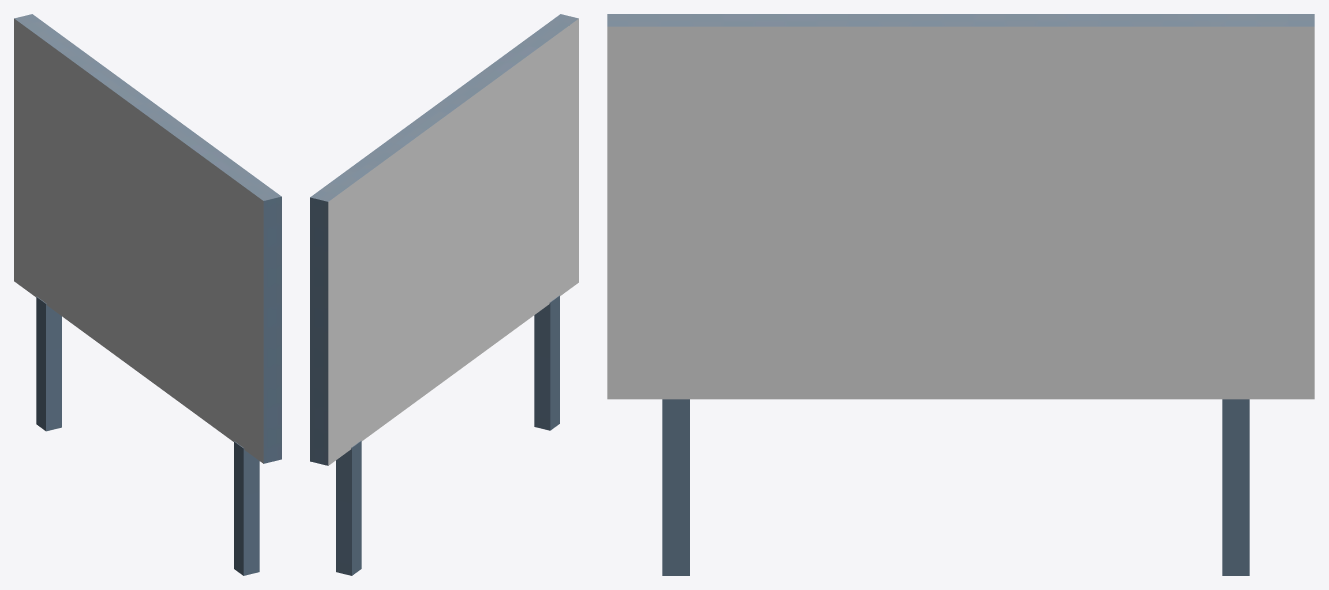
The model's file is Sign2.glb.
3 renders of one model, left to right at view 1: azimuth 30°, elevation 25°; view 2: azimuth 150°, elevation 25°; view 3: azimuth 270°, elevation 25°, orthographic. The views are drawn at different scales.
Visible parts, largest first — view 1: Sign2, SignFrame; view 2: Sign2, SignFrame; view 3: Sign, SignFrame.
Part boxes in pixels (<box>): Sign2: <box>14,18,263,463</box>; SignFrame: <box>14,14,281,575</box>; Sign2: <box>328,18,578,465</box>; SignFrame: <box>310,14,578,575</box>; Sign: <box>607,26,1314,399</box>; SignFrame: <box>607,14,1314,575</box>.
Bounding box in the file's own units: 0.1899 × 3.74 × 4.35.
3 materials, 1 textured.
